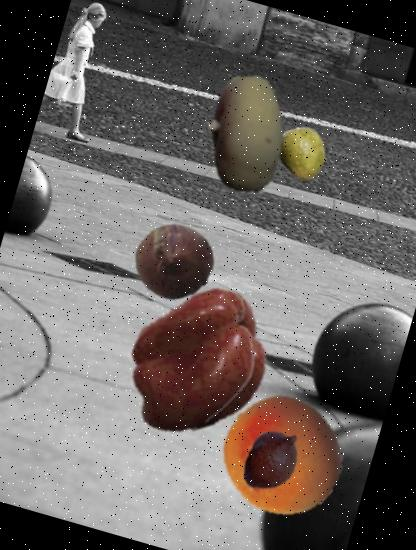Grapefruit: (206, 380, 358, 532)
Guava: (268, 120, 336, 188)
Onion: (125, 212, 223, 310)
Peach: (174, 62, 320, 206)
Pepper: (110, 275, 284, 448)
Salak: (230, 418, 314, 503)
